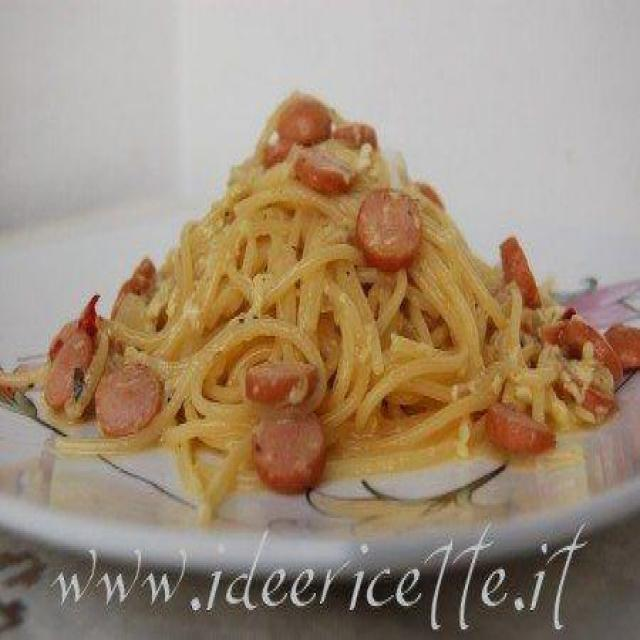Pasta with carbonara sauce: (36, 39, 638, 525)
